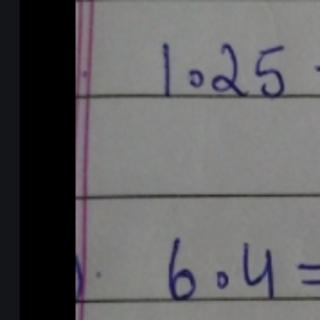.: (186, 67, 204, 89)
0: (216, 270, 232, 288)
1: (160, 43, 173, 98)
2: (212, 42, 246, 96)
4: (242, 240, 277, 302)
5: (255, 45, 289, 99)
6: (167, 235, 198, 299)
